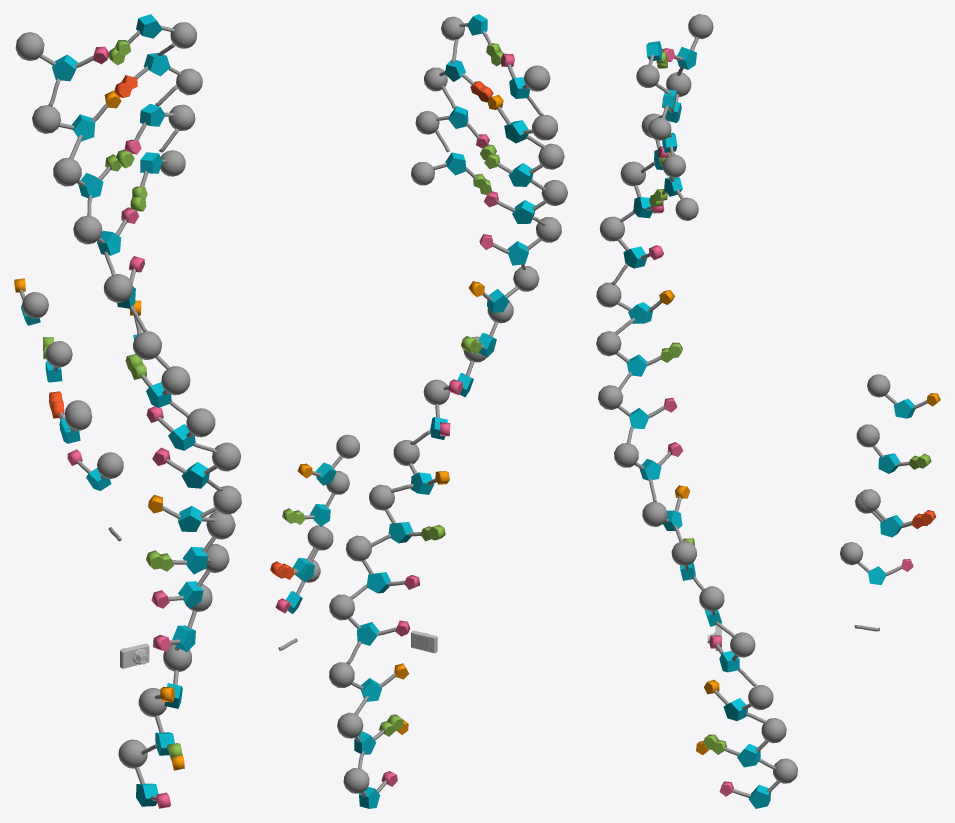
File: DNA.obj
The picture shows the model from 3 angles, left to right: view 1: azimuth 30°, elevation 25°; view 2: azimuth 150°, elevation 25°; view 3: azimuth 270°, elevation 25°; orthographic projection. The views are drawn at different scales.
Visible parts, largest first — view 1: mesh2009437433.001, Sphere.004_Sphere.005; view 2: mesh2009437433.001; view 3: mesh2009437433.001.
Part boxes in pixels (x1,y1,x2,y2): mesh2009437433.001: (14,14,241,808); Sphere.004_Sphere.005: (120,643,149,668); mesh2009437433.001: (270,14,567,808); mesh2009437433.001: (596,14,940,808).
Size of the model in its own units: 0.4623 by 1.72 by 0.7278.
